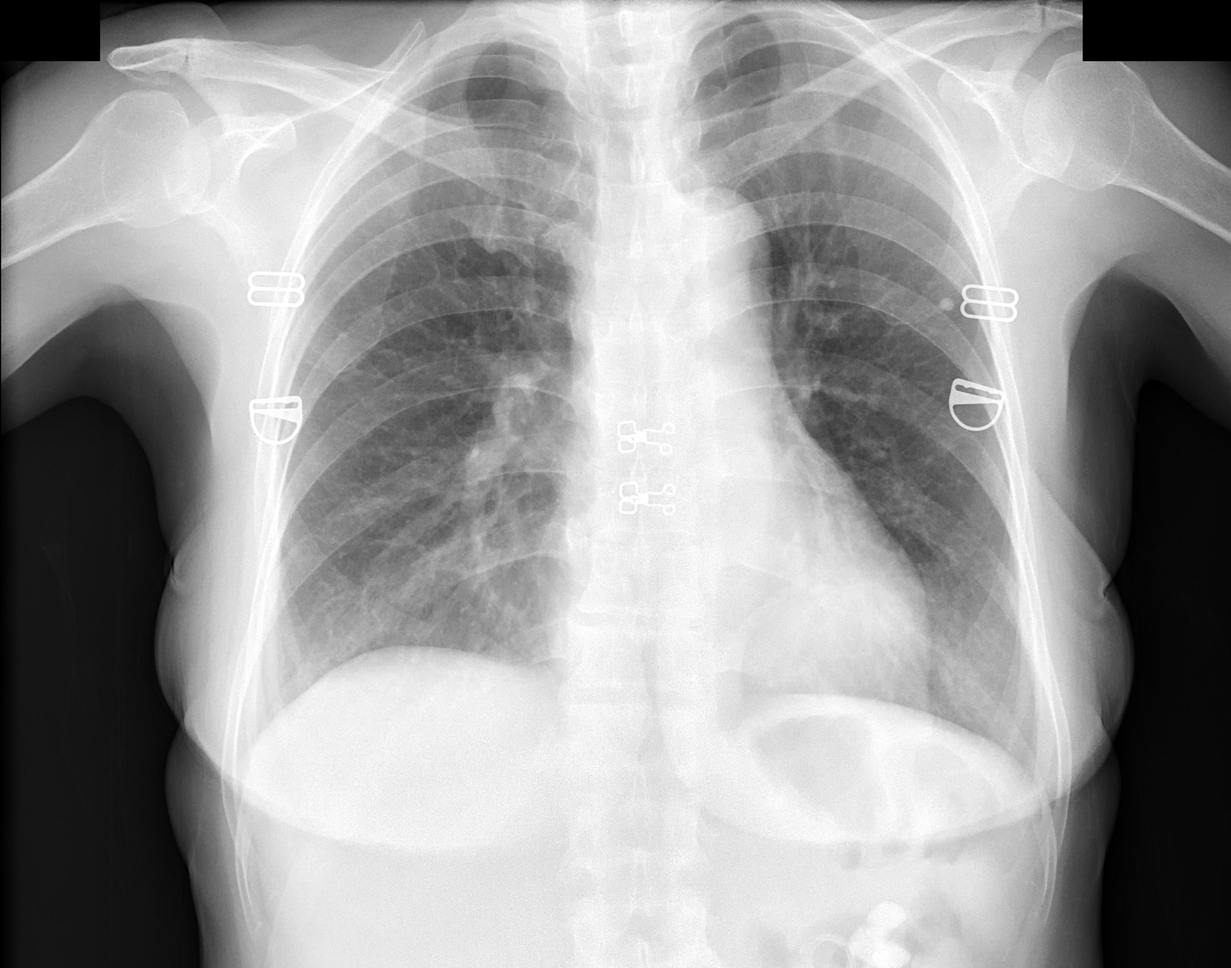Aortic enlargement: (646, 185, 773, 312)
